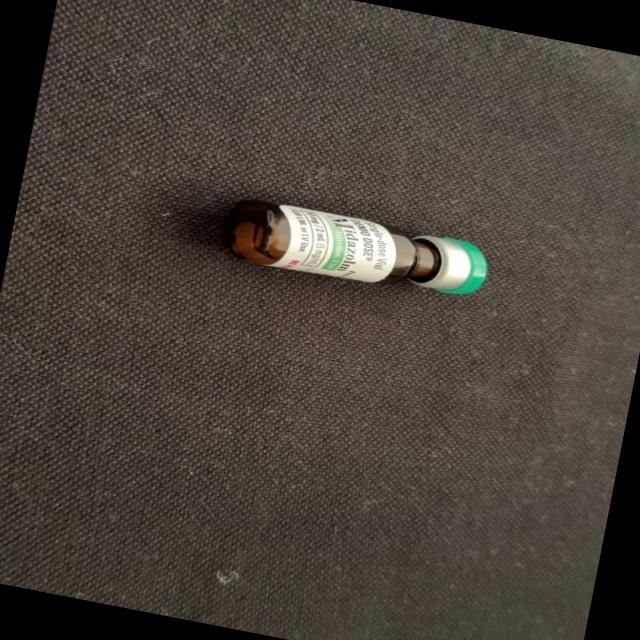midazolm: (224, 195, 487, 306)
